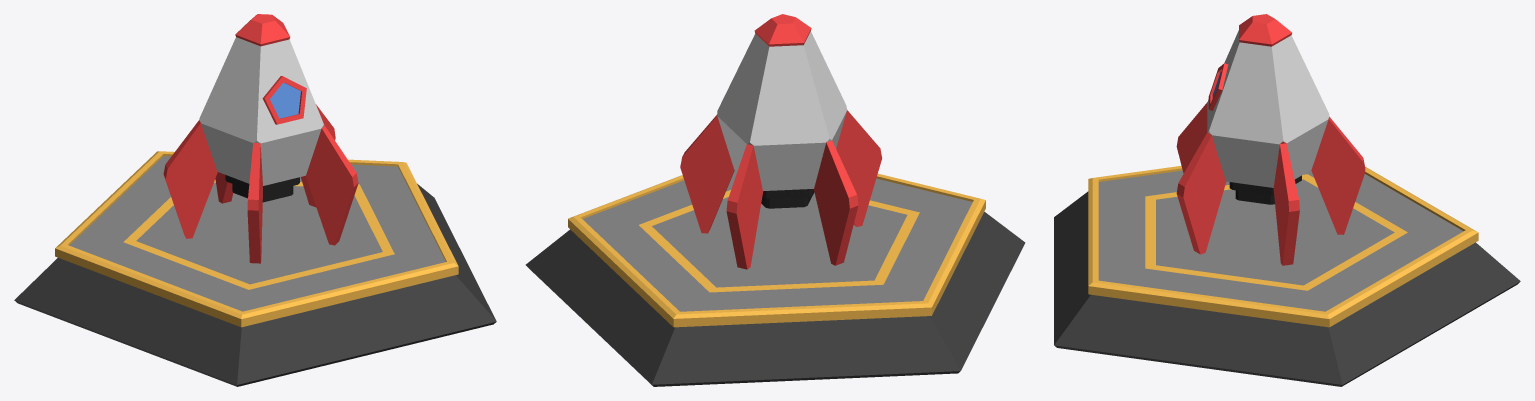
The model's file is LP_Rocketbohthard.fbx.
The picture shows the model from 3 angles, left to right: view 1: azimuth 30°, elevation 25°; view 2: azimuth 150°, elevation 25°; view 3: azimuth 270°, elevation 25°; orthographic projection. The views are drawn at different scales.
Parts seen in each view (by area): view 1: Launchpad, Rocket_Fuselage, Rocket_Fins, Rocket_Window, Rocket_Nose, Rocket_Thruster; view 2: Launchpad, Rocket_Fuselage, Rocket_Fins, Rocket_Nose, Rocket_Thruster; view 3: Launchpad, Rocket_Fuselage, Rocket_Fins, Rocket_Nose, Rocket_Thruster, Rocket_Window.
Part boxes in pixels (bbox=[...]): Launchpad: bbox=[14, 151, 496, 386]; Rocket_Fuselage: bbox=[199, 37, 324, 185]; Rocket_Fins: bbox=[163, 104, 358, 263]; Rocket_Window: bbox=[262, 76, 306, 124]; Rocket_Nose: bbox=[235, 14, 290, 46]; Rocket_Thruster: bbox=[225, 175, 299, 202]; Launchpad: bbox=[525, 170, 1025, 386]; Rocket_Fuselage: bbox=[717, 31, 846, 190]; Rocket_Fins: bbox=[680, 110, 882, 269]; Rocket_Nose: bbox=[754, 14, 811, 46]; Rocket_Thruster: bbox=[761, 189, 814, 208]; Launchpad: bbox=[1054, 165, 1520, 386]; Rocket_Fuselage: bbox=[1207, 30, 1329, 187]; Rocket_Fins: bbox=[1176, 102, 1365, 265]; Rocket_Nose: bbox=[1239, 14, 1291, 46]; Rocket_Thruster: bbox=[1229, 175, 1301, 204]; Rocket_Window: bbox=[1208, 63, 1228, 110].
Bounding box in the file's own units: 918 × 548 × 873.
